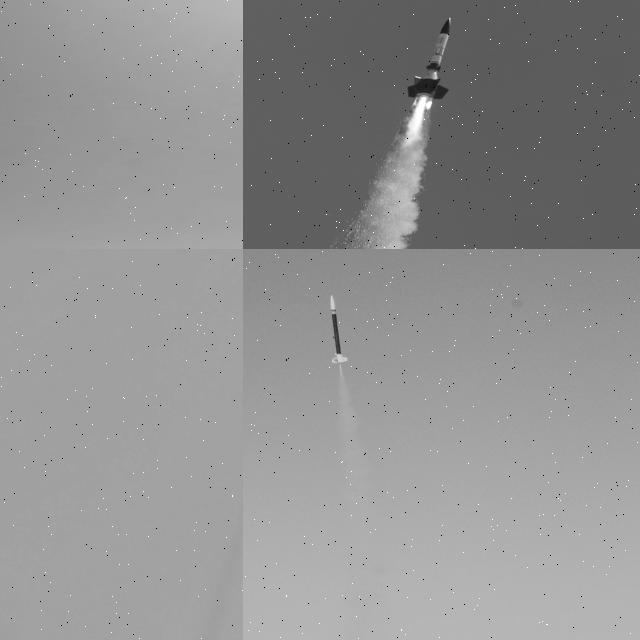Rocket: (407, 17, 452, 100), (329, 295, 348, 364)
